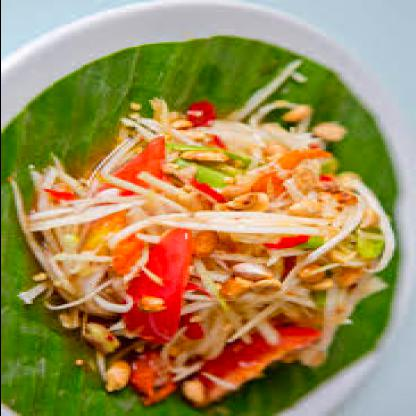Papaya Salad: (9, 107, 387, 386)
